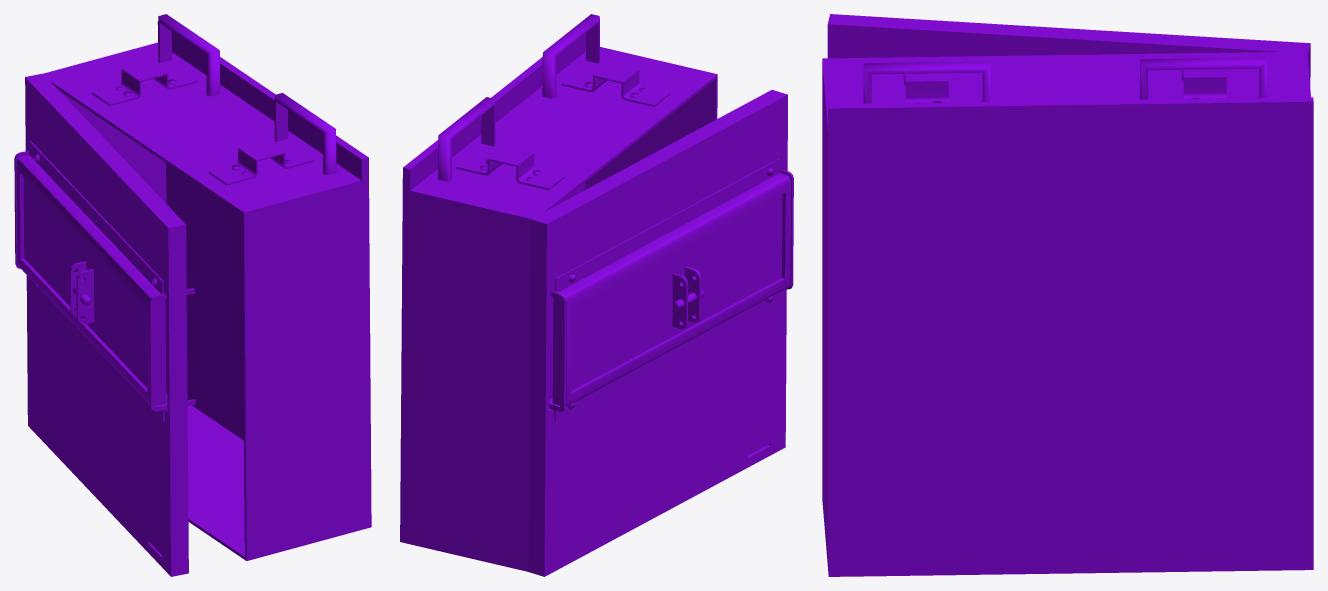
The model's file is Power box not locked out.fbx.
3 views of the same model, side by side, from view 1: azimuth 30°, elevation 25°; view 2: azimuth 150°, elevation 25°; view 3: azimuth 270°, elevation 25° (orthographic). The views are drawn at different scales.
Parts seen in each view (by area): view 1: Object_4.001, Object_4.002; view 2: Object_4.002, Object_4.001; view 3: Object_4.001, Object_4.002.
Part boxes in pixels (<box>): Object_4.001: <box>40,14,371,560</box>; Object_4.002: <box>14,73,195,576</box>; Object_4.002: <box>528,90,793,576</box>; Object_4.001: <box>400,14,717,571</box>; Object_4.001: <box>822,51,1313,576</box>; Object_4.002: <box>827,14,1310,85</box>.
Size of the model in its own units: 29.41 by 51.7 by 46.34.
